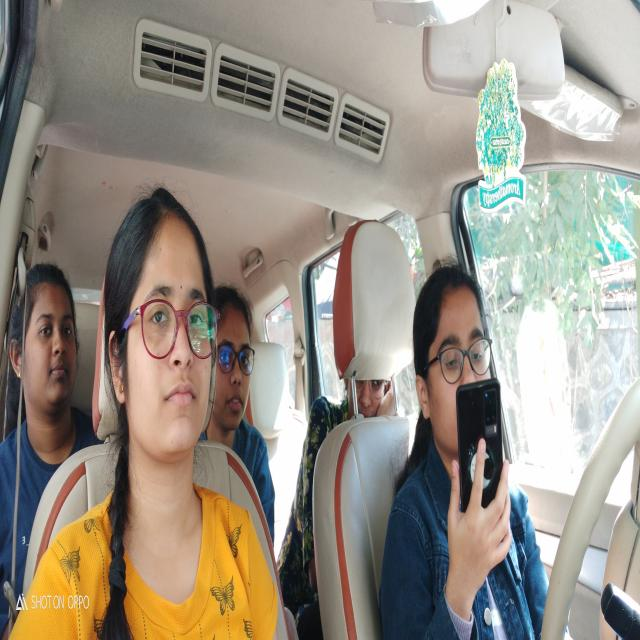mobile: (449, 355, 510, 537)
person: (103, 178, 224, 490), (407, 256, 519, 512), (11, 240, 82, 420), (213, 260, 258, 435), (331, 358, 399, 427)
